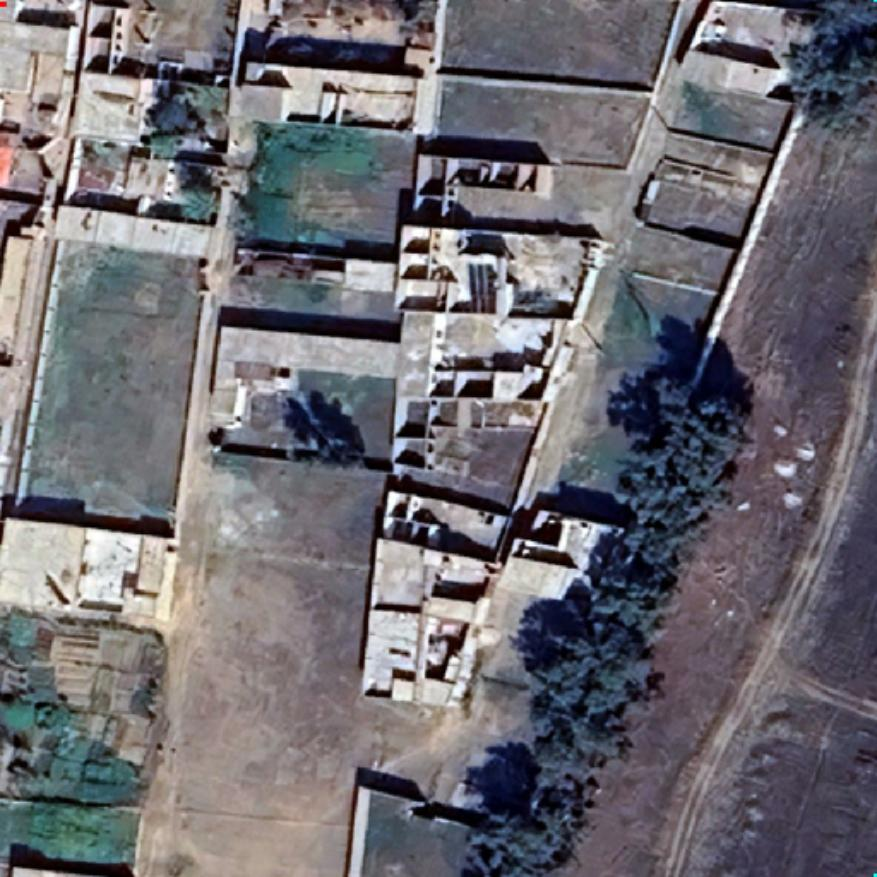Solarpanel: (464, 260, 500, 316)
